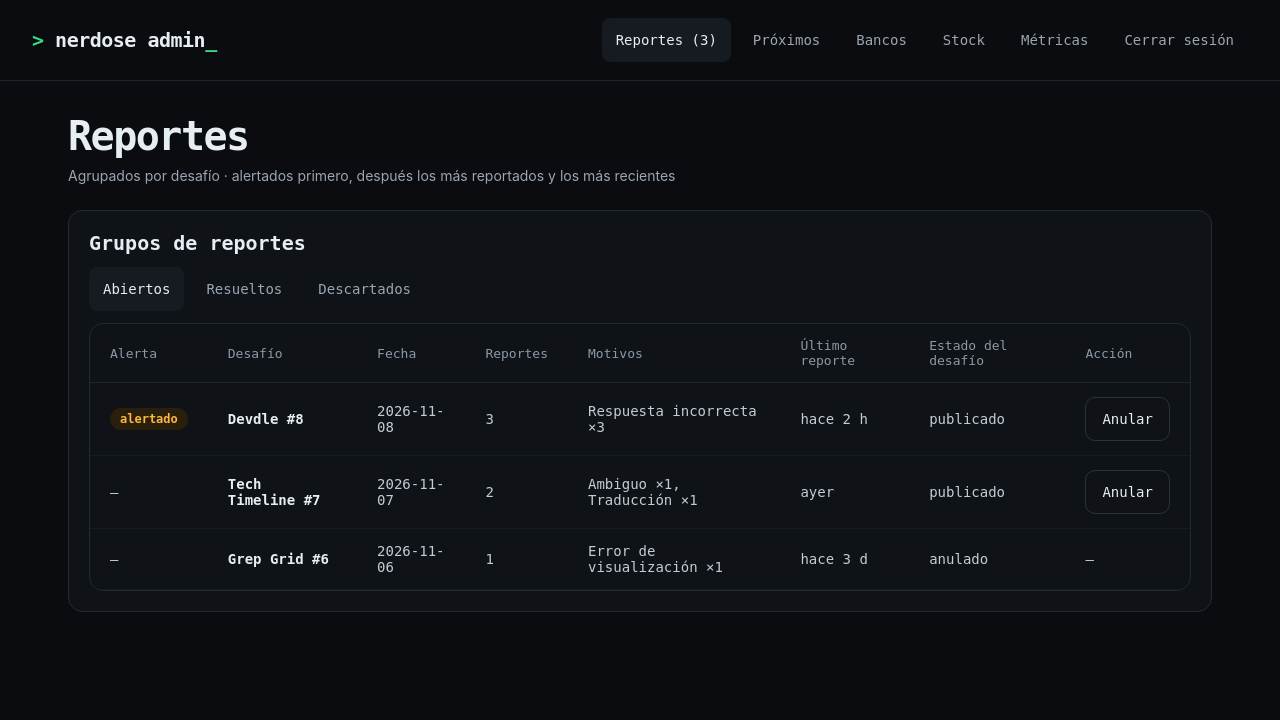
Test: modal de anulación (O-01) › el aviso de anulación desaparece al cambiar de pestaña (TS-28)
Click the button "Devdle #8": point(266, 419) [228, 411, 304, 427]
(page scrolled)
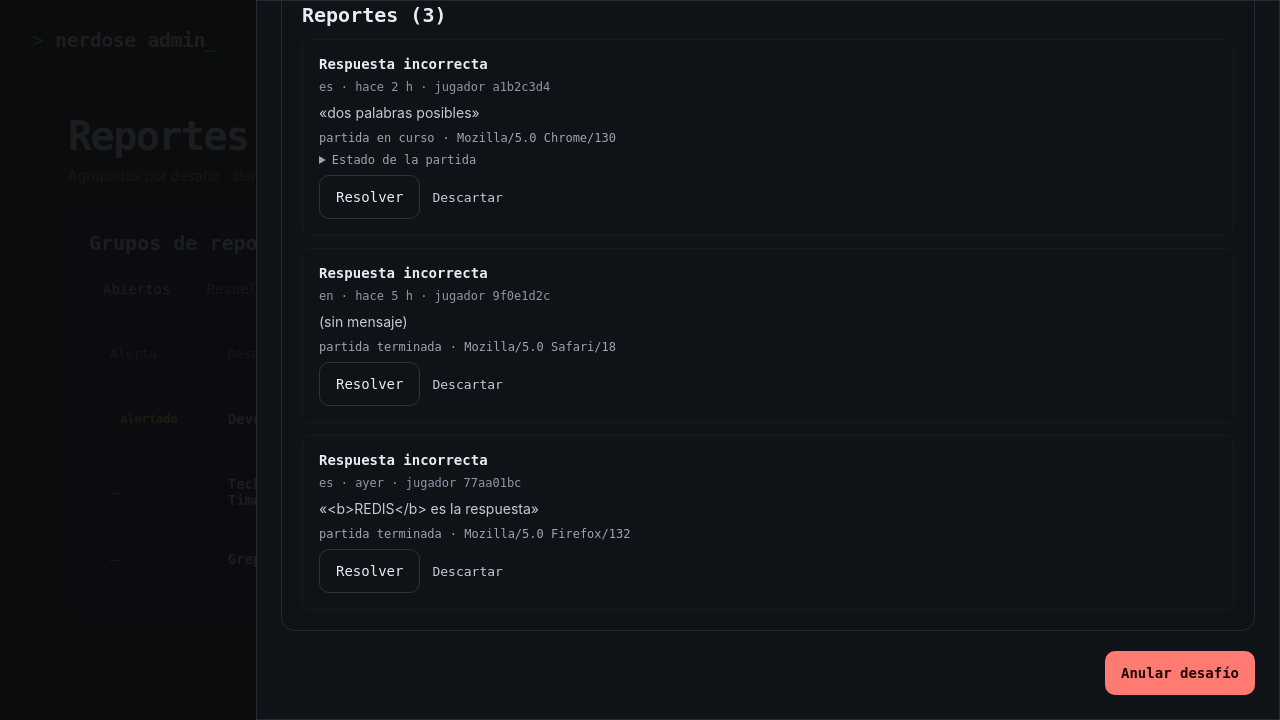
Click the button "Anular desafío": point(1180, 673) [1105, 651, 1255, 695]
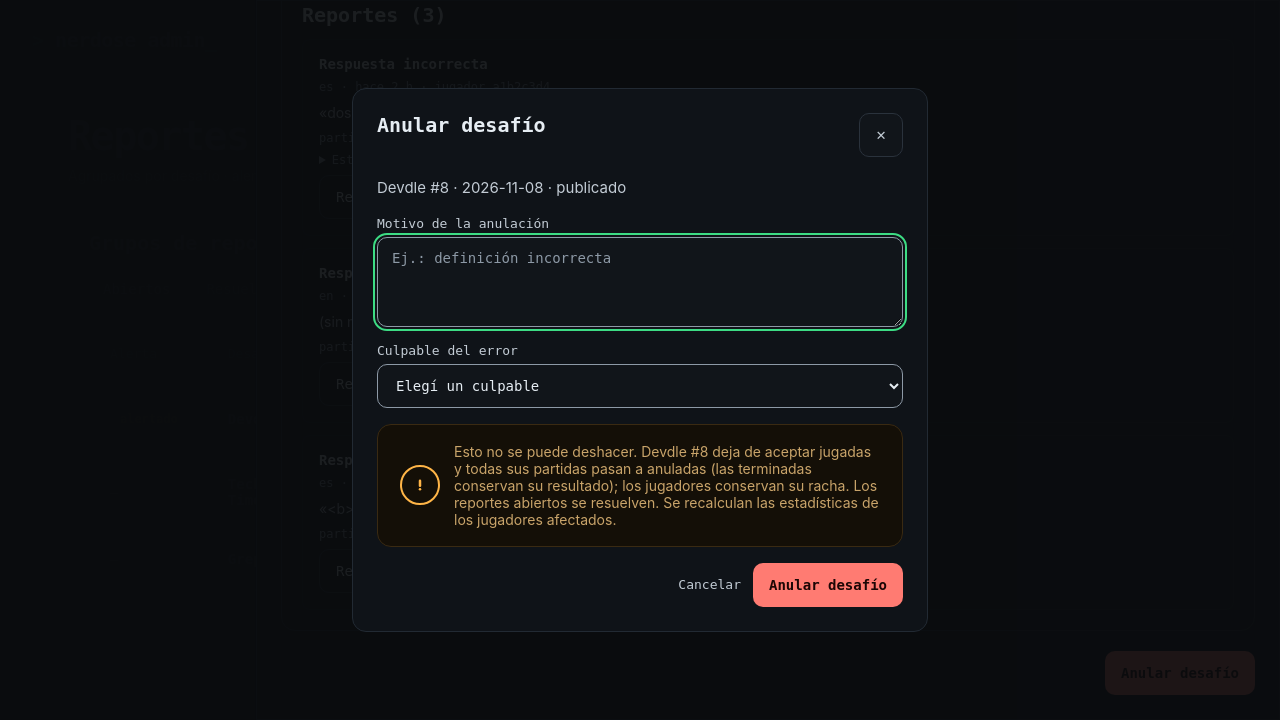
In the text box labelled "Motivo de la anulación": point(640, 282) [377, 237, 903, 327], type "motivo"
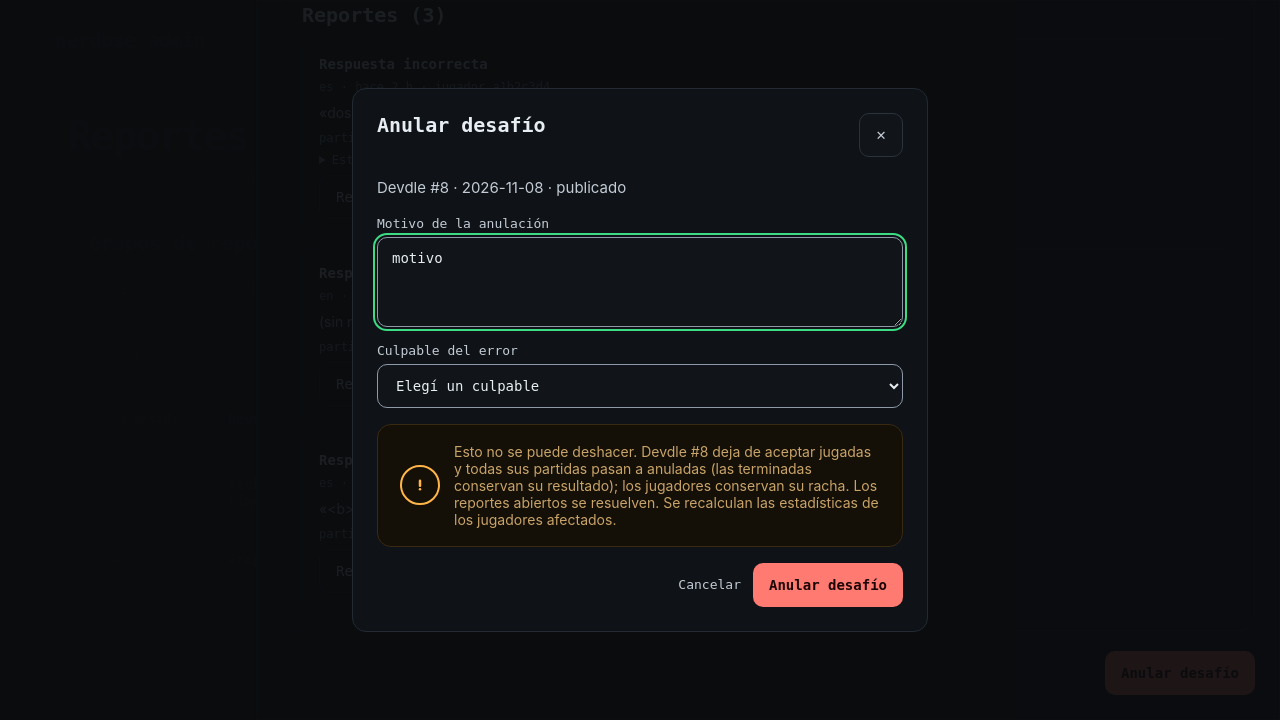
Select "La plantilla del juego" in the dropdown labelled "Culpable del error": point(640, 386) [377, 364, 903, 408]
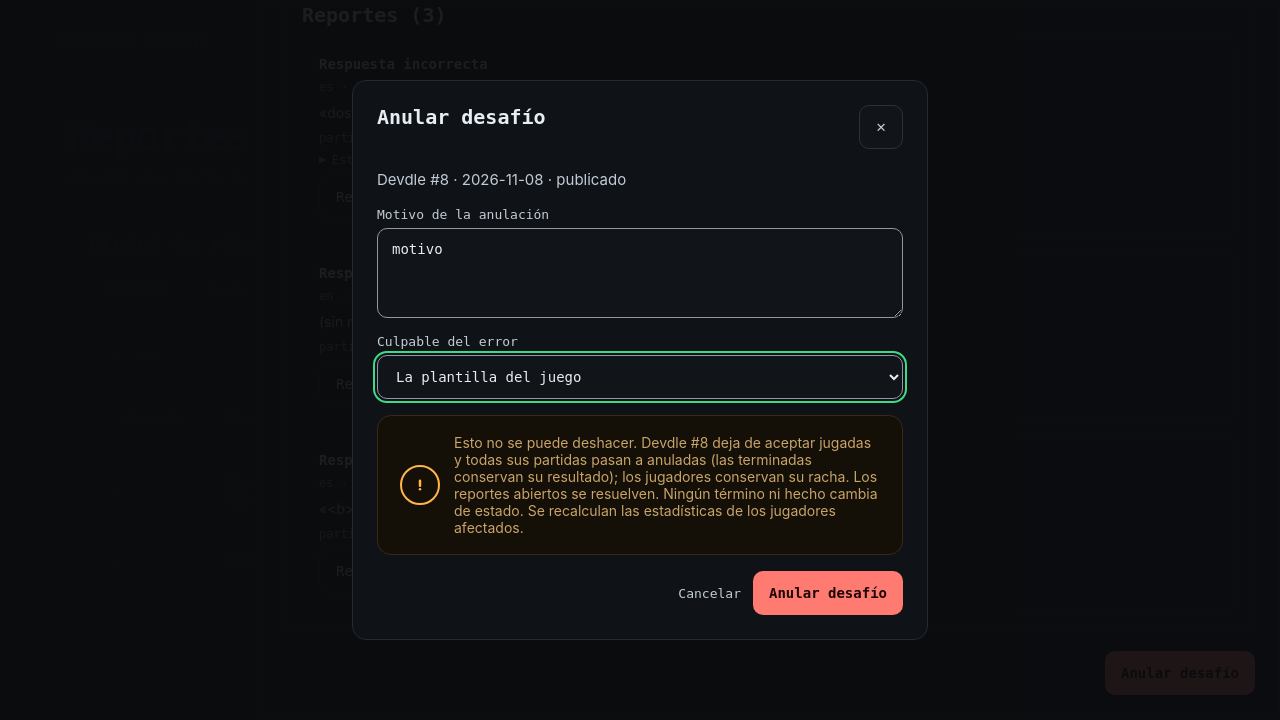
Click the button "Anular desafío": point(828, 593) [753, 571, 903, 615]
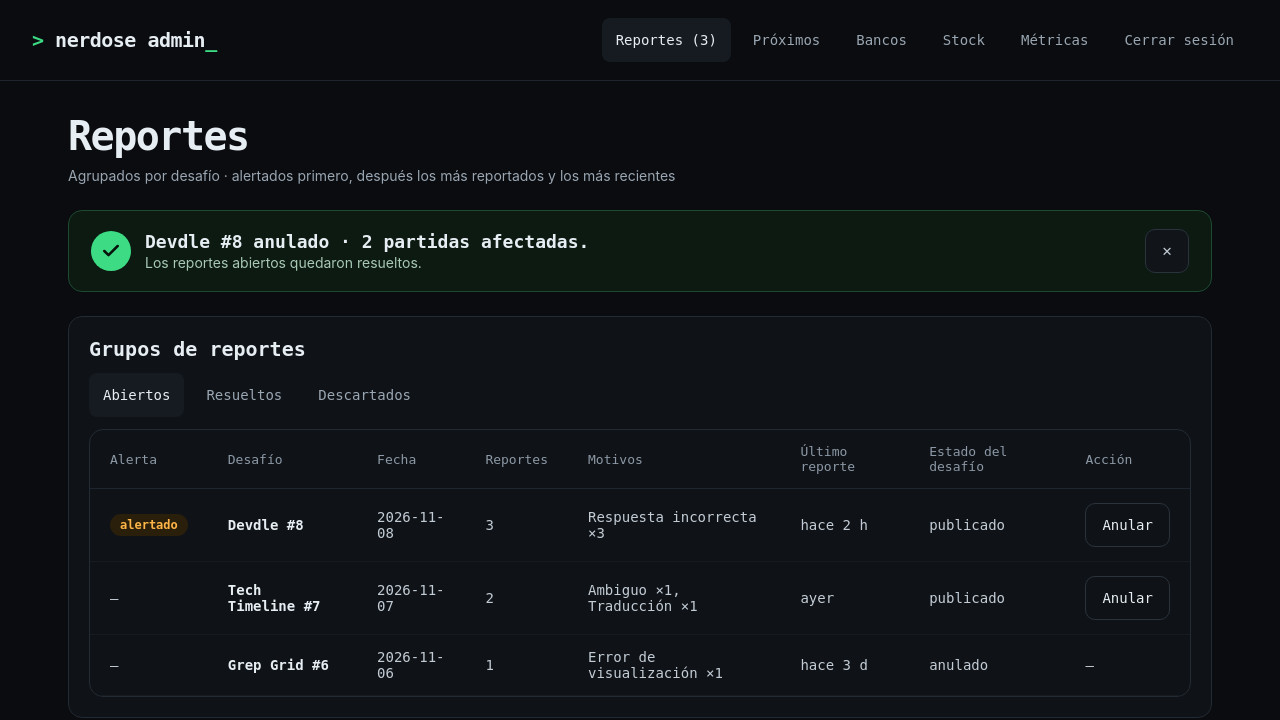
Check: the text "Devdle #8 anulado · 2 partidas afectadas." is shown, box [145, 231, 589, 252]
Click the tab "Resueltos": point(244, 395) [192, 373, 296, 417]
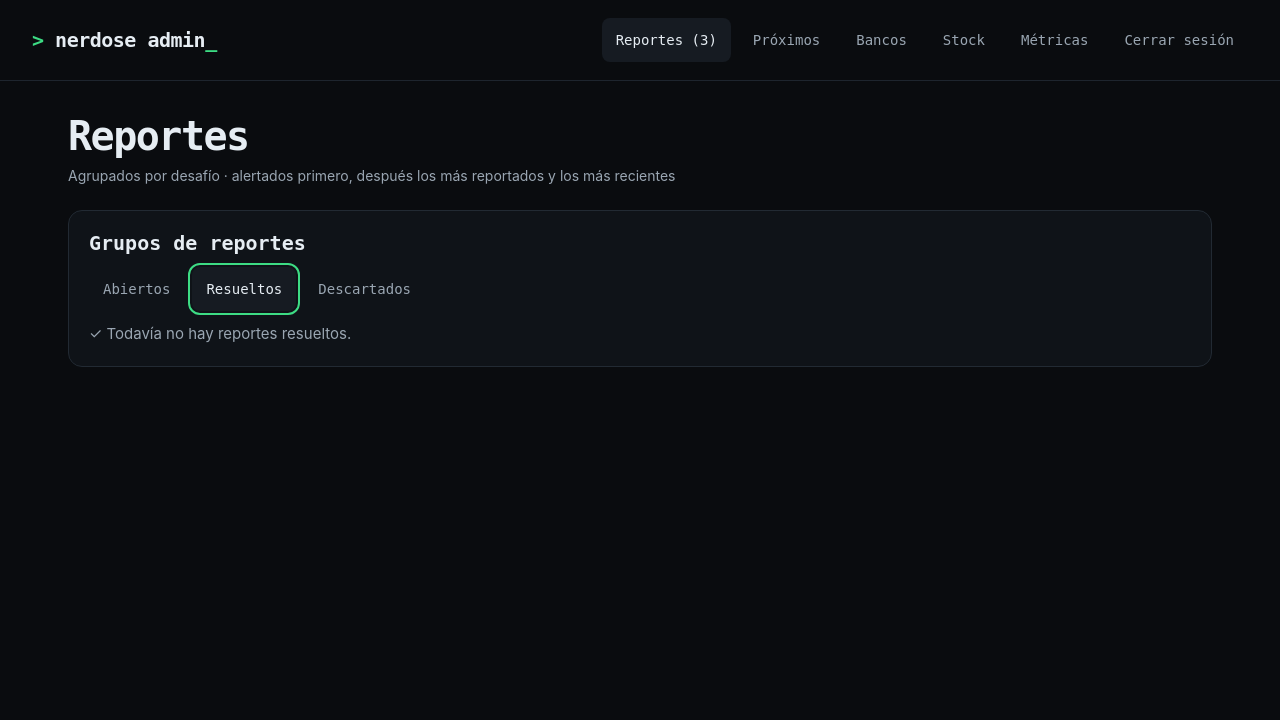
Check: the text "Devdle #8 anulado" is gone
